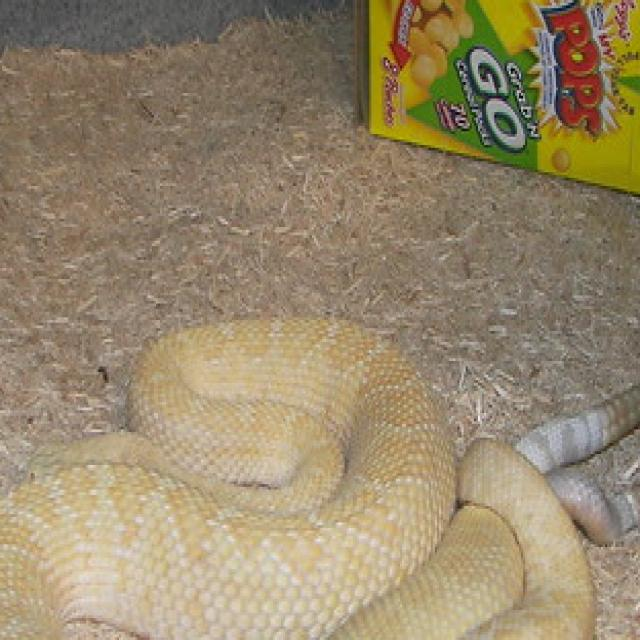snake: (0, 306, 640, 640)
